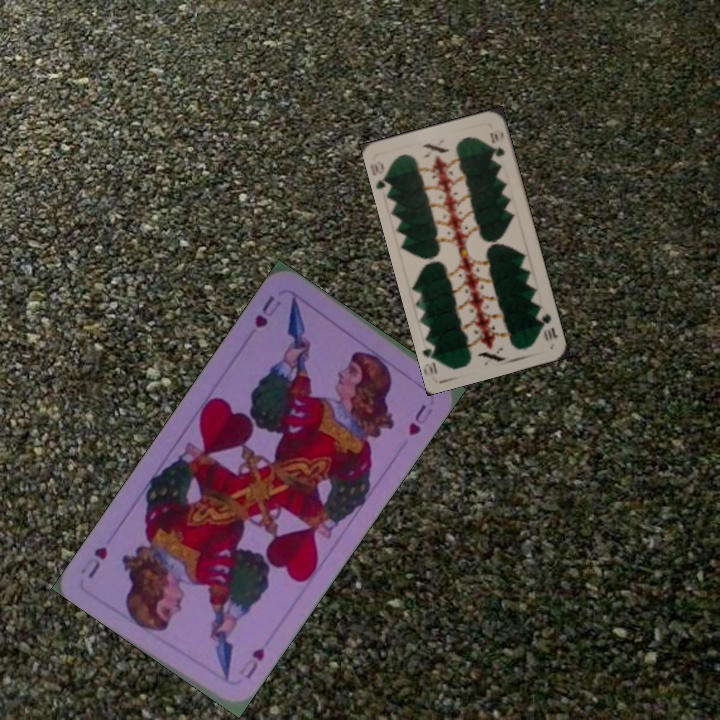G10: (533, 306, 560, 344), (370, 156, 394, 195)
HU: (250, 291, 284, 331), (235, 644, 268, 682)
